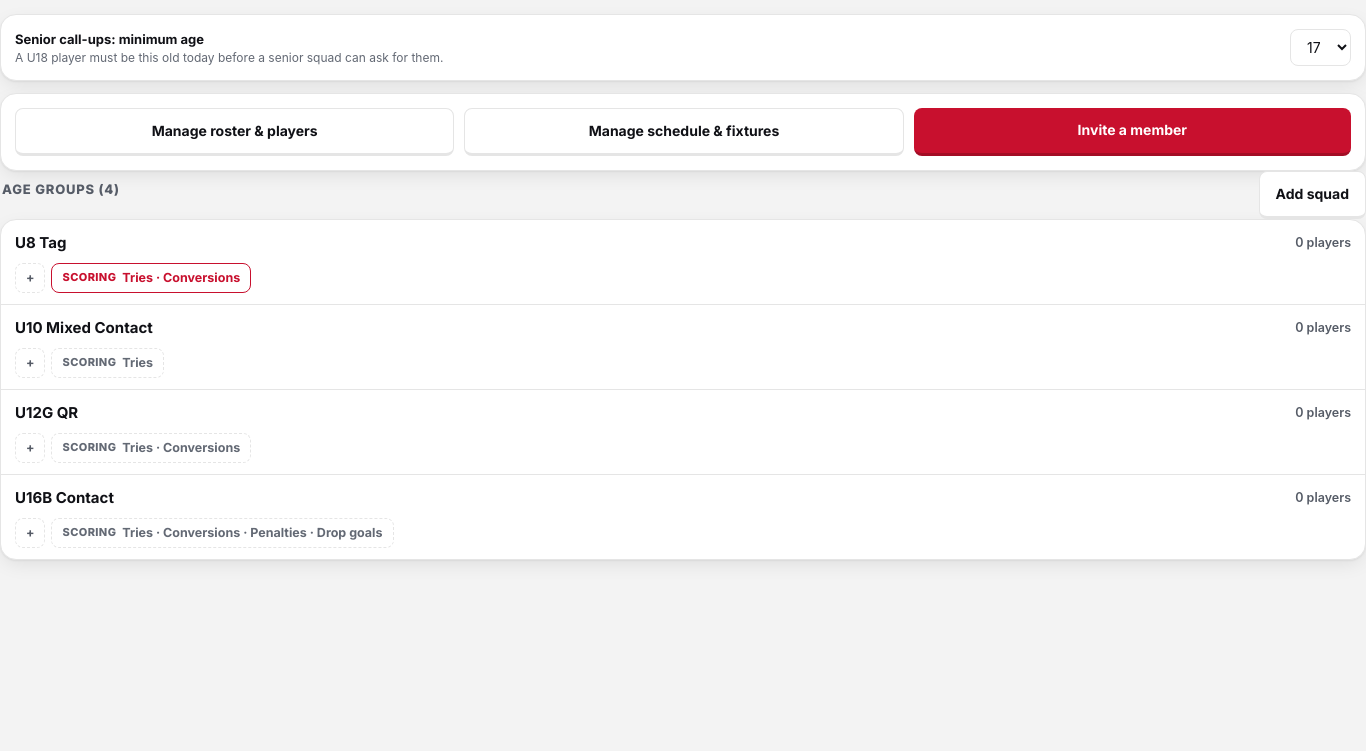
Scenario: AdminClub — how a squad scores › ⚠️ refuses to save nothing rather than quietly meaning "tries"
Click the button with test id "scoring-chip-team-u10": (108, 363) [52,348,164,378]
(page scrolled)
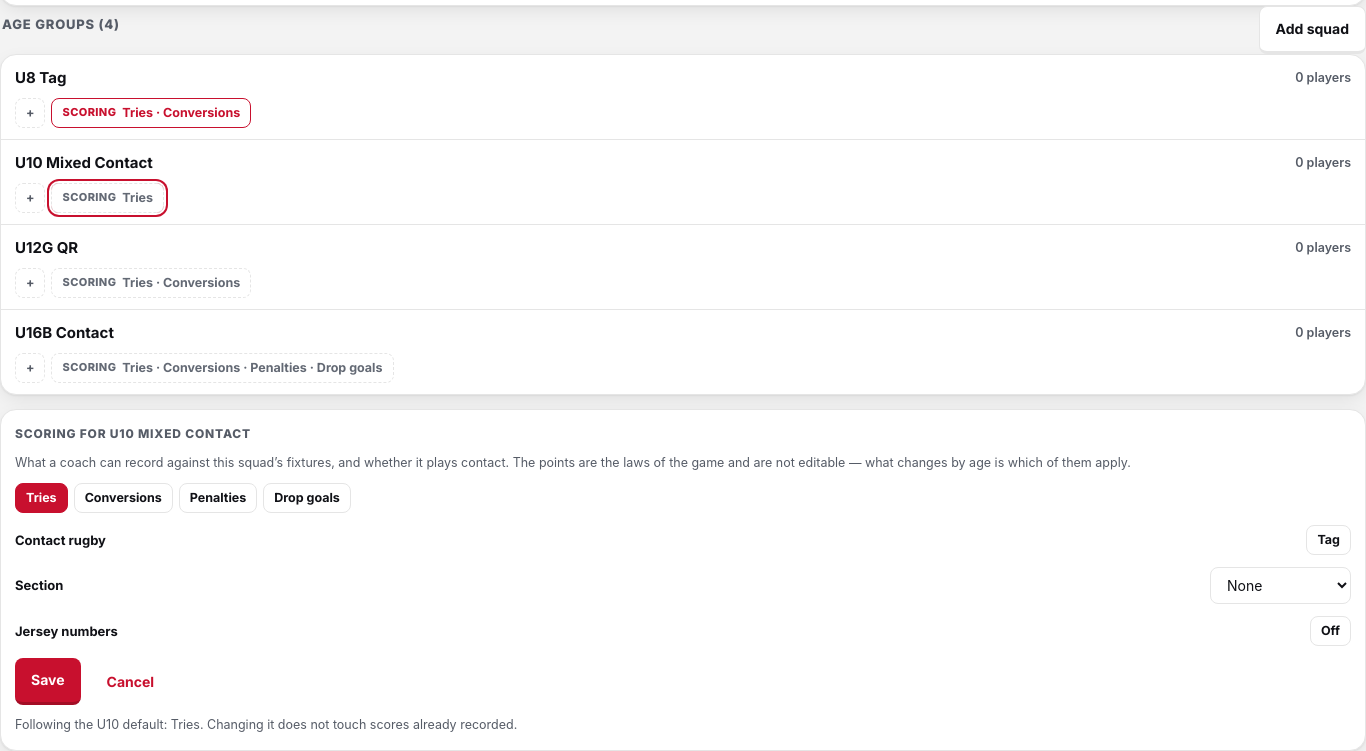
Click the checkbox labelled "Tries": (41, 498) [15,483,68,513]
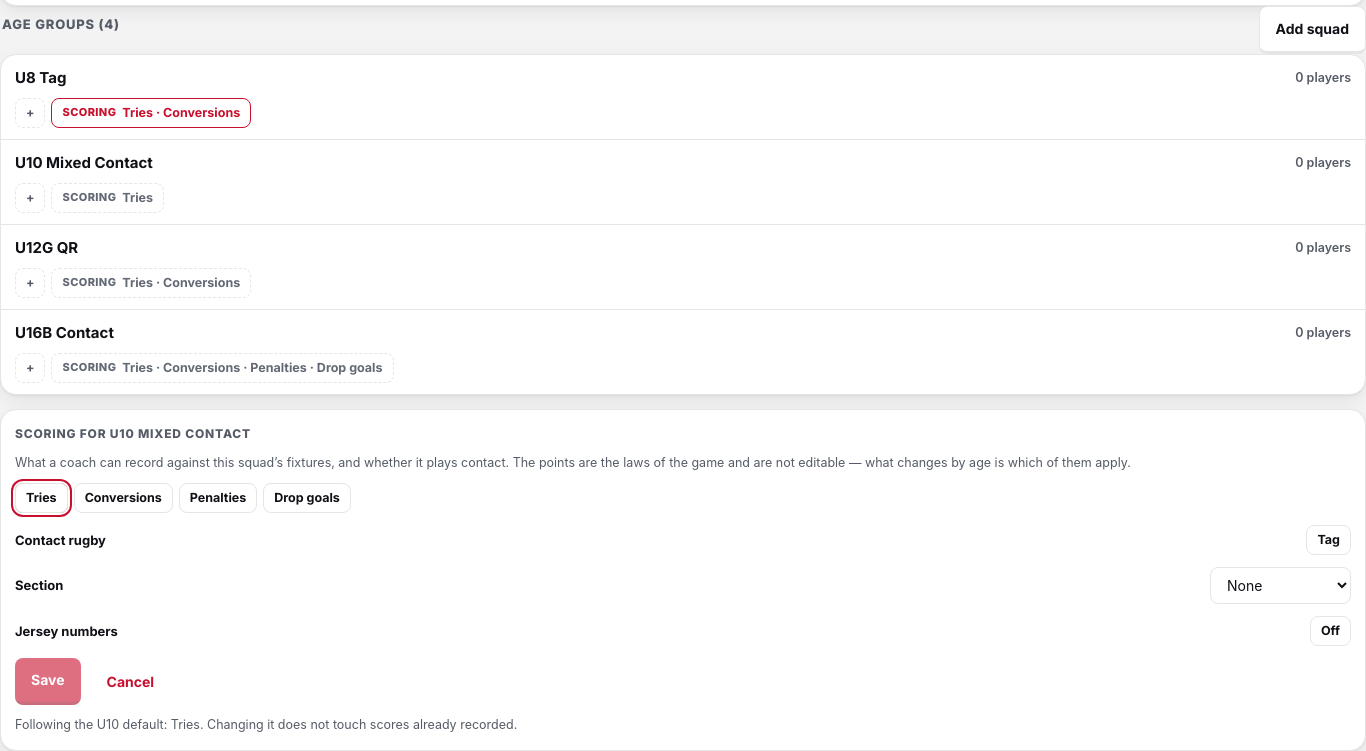
Expected: the button "Save" is disabled, [15,658,80,705]
